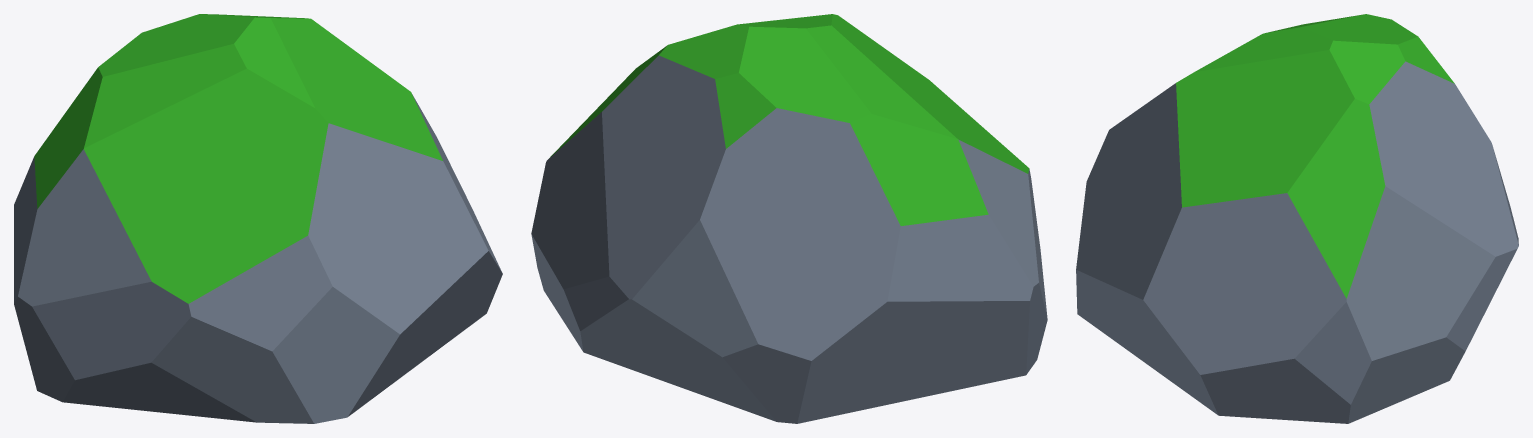
Rendered from MossyBoulderRock_Split.fbx.
3 renders of one model, left to right at view 1: azimuth 30°, elevation 25°; view 2: azimuth 150°, elevation 25°; view 3: azimuth 270°, elevation 25°, orthographic. The views are drawn at different scales.
Parts seen in each view (by area): view 1: MossyBoulderRock_PieceA, MossyBoulderRock_PieceB; view 2: MossyBoulderRock_PieceA, MossyBoulderRock_PieceB; view 3: MossyBoulderRock_PieceB, MossyBoulderRock_PieceA.
Boxes of the visible parts, x1,y1,x2,y2 form: MossyBoulderRock_PieceA: [14, 14, 362, 423]; MossyBoulderRock_PieceB: [201, 14, 502, 409]; MossyBoulderRock_PieceA: [675, 18, 1047, 423]; MossyBoulderRock_PieceB: [531, 14, 863, 392]; MossyBoulderRock_PieceB: [1076, 32, 1518, 423]; MossyBoulderRock_PieceA: [1077, 14, 1518, 320].
Bounding box in the file's own units: 19.28 × 12 × 16.53.
